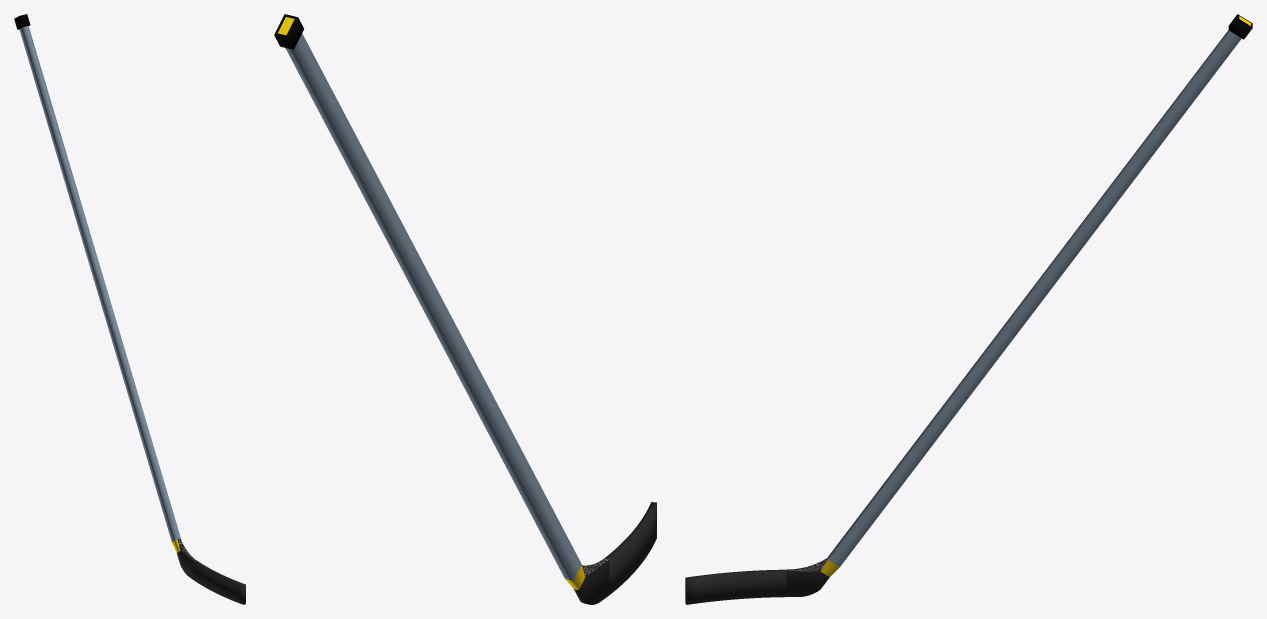
Rendered from HockeyStick.dae.
The picture shows the model from 3 angles, left to right: view 1: azimuth 30°, elevation 25°; view 2: azimuth 150°, elevation 25°; view 3: azimuth 270°, elevation 25°; orthographic projection. The views are drawn at different scales.
Visible parts, largest first — view 1: SketchUp (×2); view 2: SketchUp (×3); view 3: SketchUp (×2).
Boxes of the visible parts, x1,y1,x2,y2 form: SketchUp (×2): (19,26,245,604); SketchUp (×3): (274,14,656,604); SketchUp (×2): (685,30,1241,604).
Bounding box in the file's own units: 6.35 × 137 × 155.
